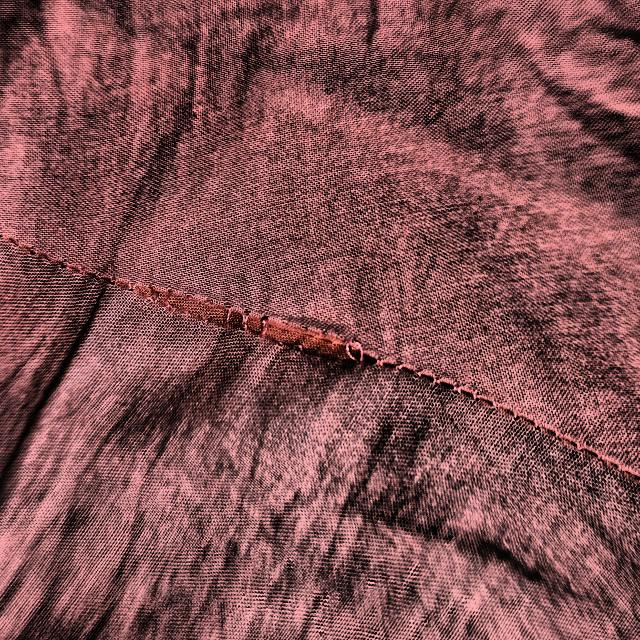seam: (132, 264, 384, 390)
